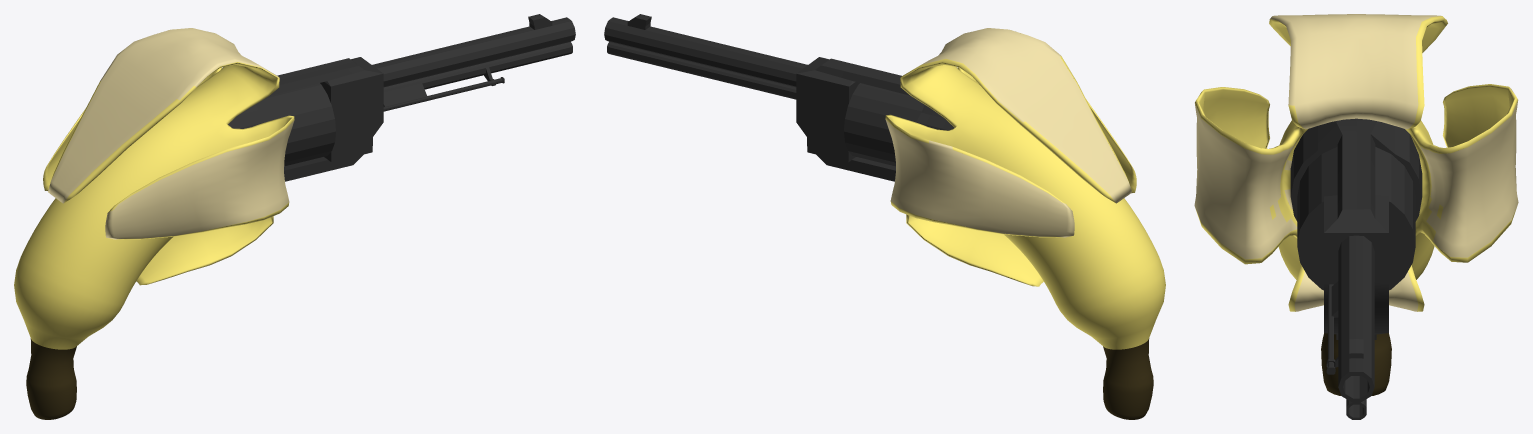
File: banana-gun.d78312bd.glb
3 renders of one model, left to right at view 1: azimuth 30°, elevation 25°; view 2: azimuth 150°, elevation 25°; view 3: azimuth 270°, elevation 25°, orthographic. The views are drawn at different scales.
Parts seen in each view (by area): view 1: banana, gun; view 2: banana, gun; view 3: banana, gun.
Boxes of the visible parts, x1=… form: banana: x1=14, y1=28, x2=294, y2=419; gun: x1=228, y1=14, x2=575, y2=181; banana: x1=885, y1=28, x2=1165, y2=419; gun: x1=604, y1=14, x2=954, y2=181; banana: x1=1194, y1=14, x2=1518, y2=395; gun: x1=1290, y1=118, x2=1422, y2=419.
Bounding box in the file's own units: 0.033 × 0.0194 × 0.012.
